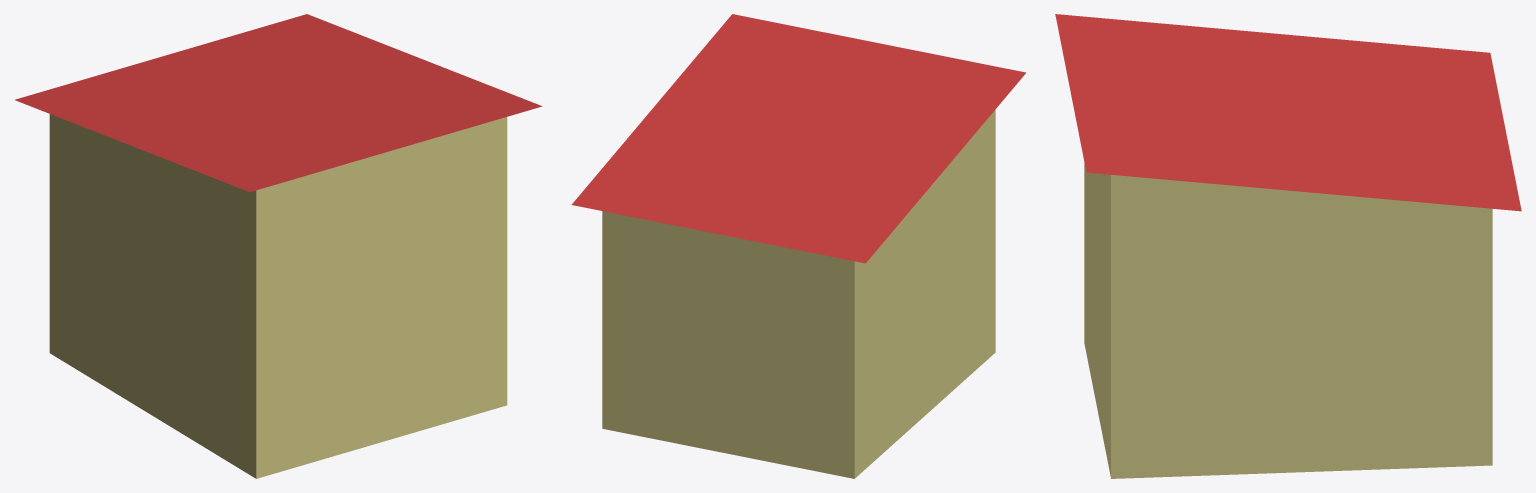
The picture shows the model from 3 angles, left to right: view 1: azimuth 30°, elevation 25°; view 2: azimuth 150°, elevation 25°; view 3: azimuth 270°, elevation 25°; orthographic projection. The views are drawn at different scales.
Size of the model in its own units: 7.62 by 8.64 by 6.51.
